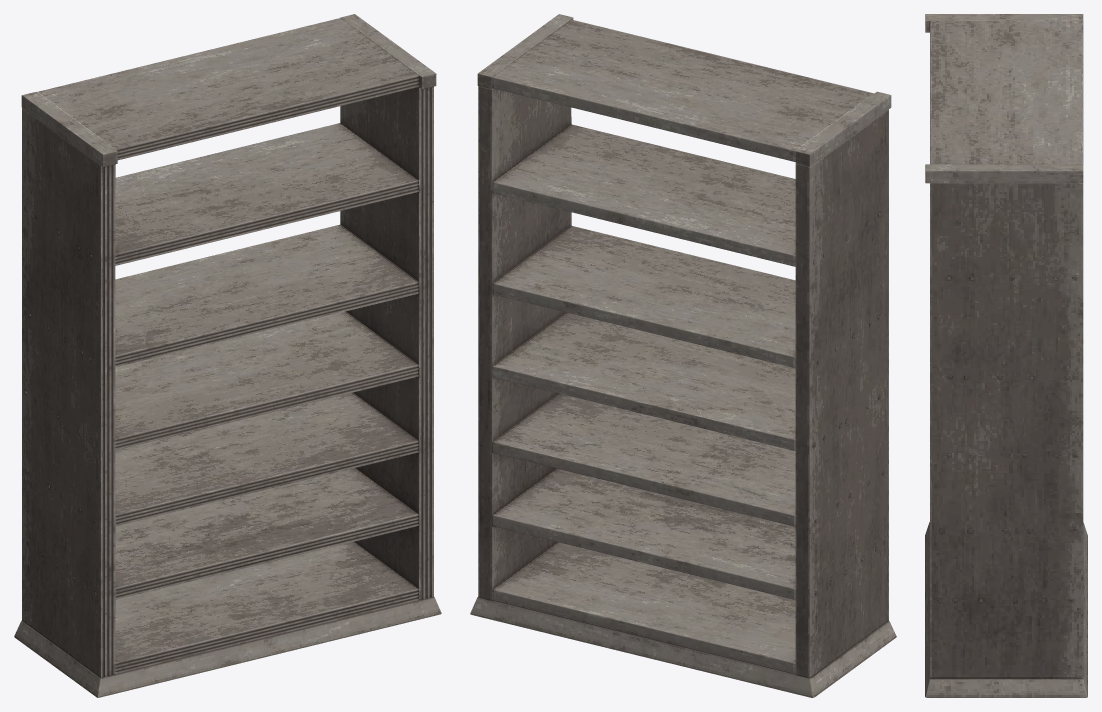
The model's file is b_bookcase.glb.
3 views of the same model, side by side, from view 1: azimuth 30°, elevation 25°; view 2: azimuth 150°, elevation 25°; view 3: azimuth 270°, elevation 25° (orthographic). The views are drawn at different scales.
Parts seen in each view (by area): view 1: body; view 2: body; view 3: body.
Boxes of the visible parts, x1,y1,x2,y2 form: body: [14, 14, 441, 697]; body: [470, 14, 896, 697]; body: [925, 14, 1087, 697].
Bounding box in the file's own units: 1.37 × 2.06 × 0.5816.
Materials: 1 (1 with a texture image).
